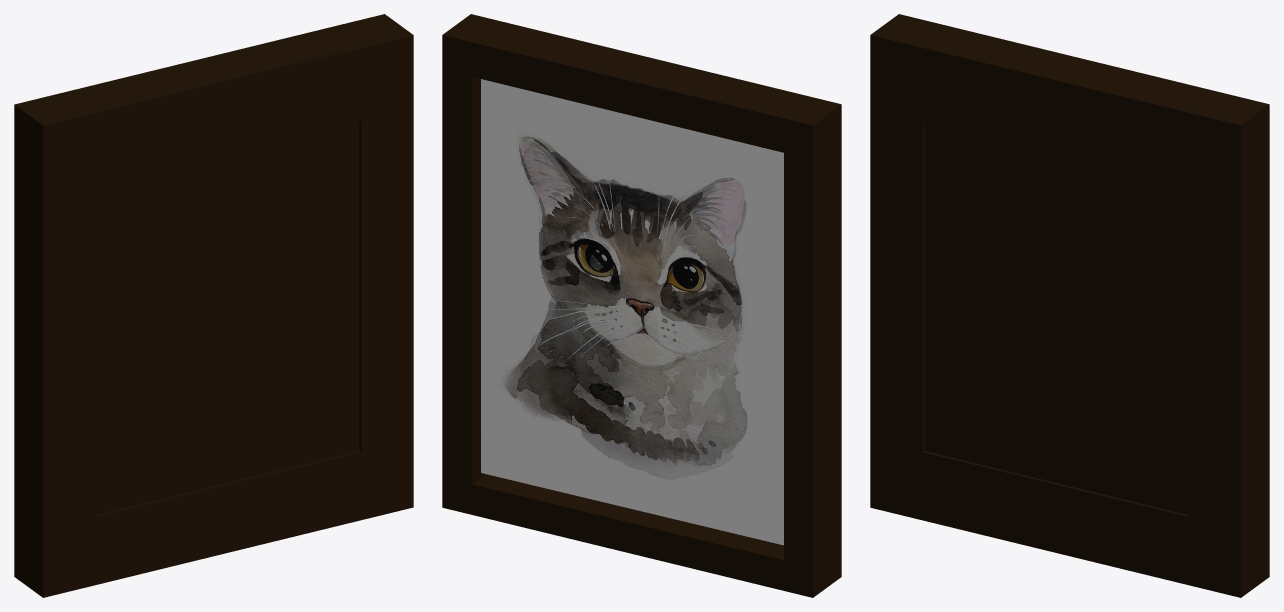
File: final_painting_2.fbx
3 renders of one model, left to right at view 1: azimuth 30°, elevation 25°; view 2: azimuth 150°, elevation 25°; view 3: azimuth 330°, elevation 25°, orthographic.
Parts seen in each view (by area): view 1: quadro_3; view 2: Canvas, quadro_3; view 3: quadro_3.
Part boxes in pixels (x1,y1,x2,y2): quadro_3: [14, 14, 413, 597]; Canvas: [481, 79, 783, 545]; quadro_3: [442, 14, 841, 597]; quadro_3: [870, 14, 1269, 597].
Size of the model in its own units: 35.66 by 43.43 by 4.83.
Materials: 2 (1 with a texture image).
